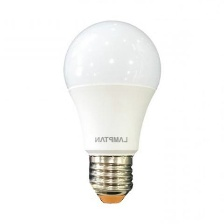light_bulb: (58, 15, 164, 210)
